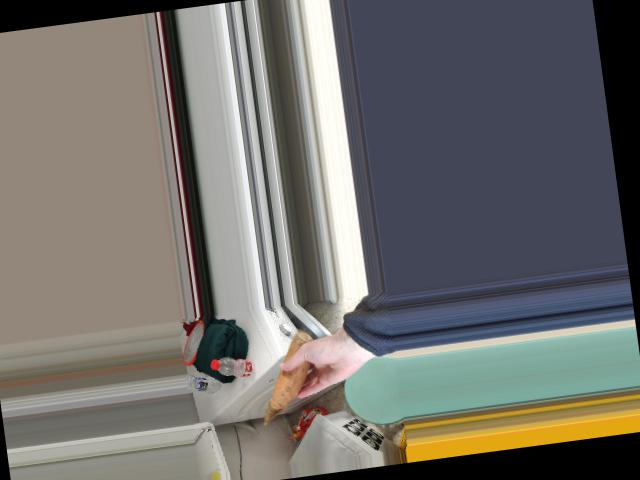sweet_potato: (261, 350, 314, 404)
